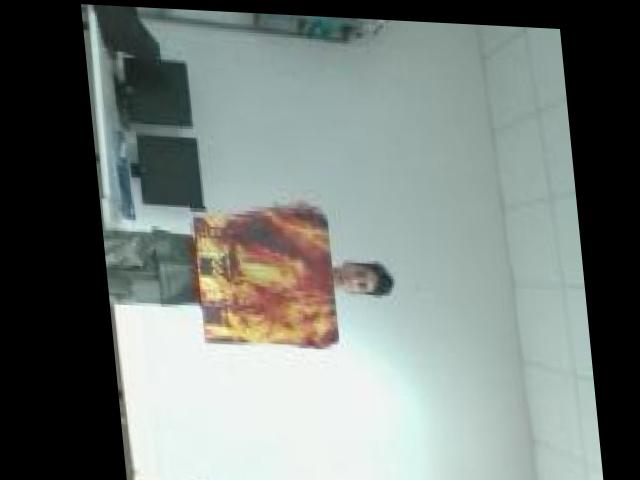fire-poster: (182, 192, 337, 350)
